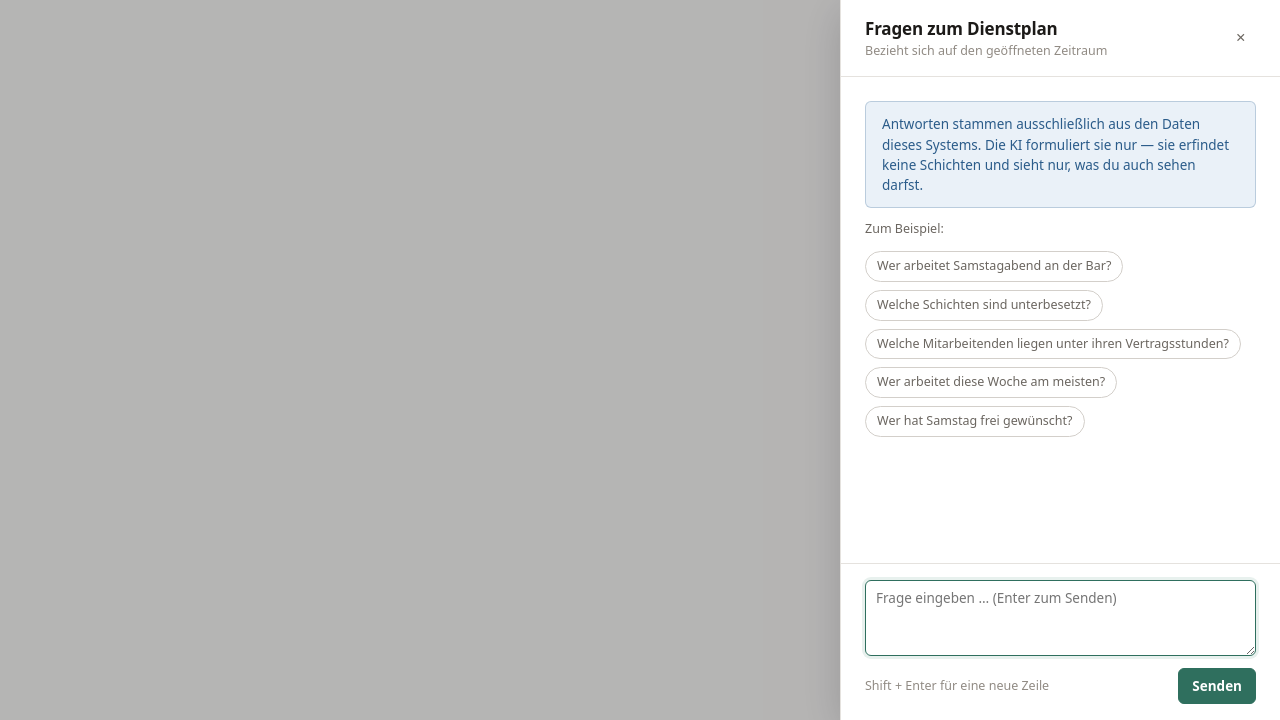
ChatDrawer › shows which backend queries the answer came from
Type "Wer?" into the text box with placeholder "Frage eingeben … (Enter zum Senden)" at (1060, 618), box left=865, top=580, right=1256, bottom=656
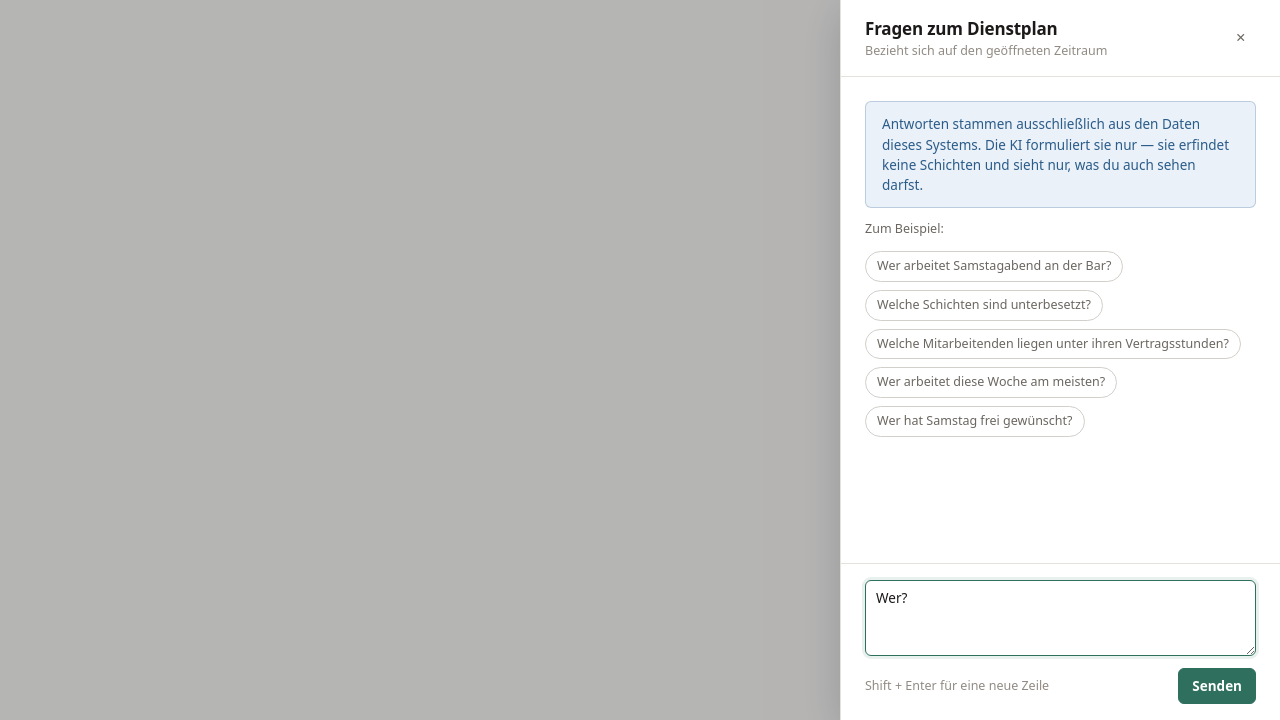
Click the button "Senden" at (1217, 686), box left=1178, top=668, right=1256, bottom=704
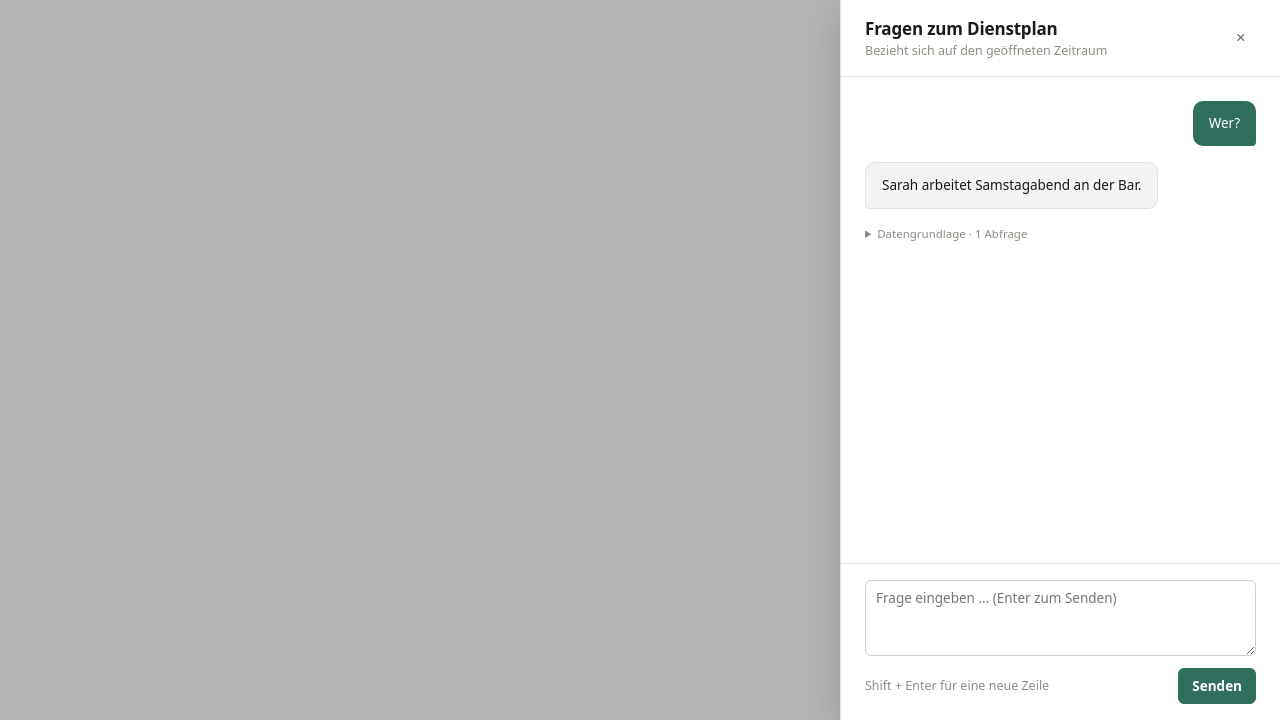
Expected: the heading "Datengrundlage · 1 Abfrage" is shown, left=865, top=225, right=1027, bottom=242
